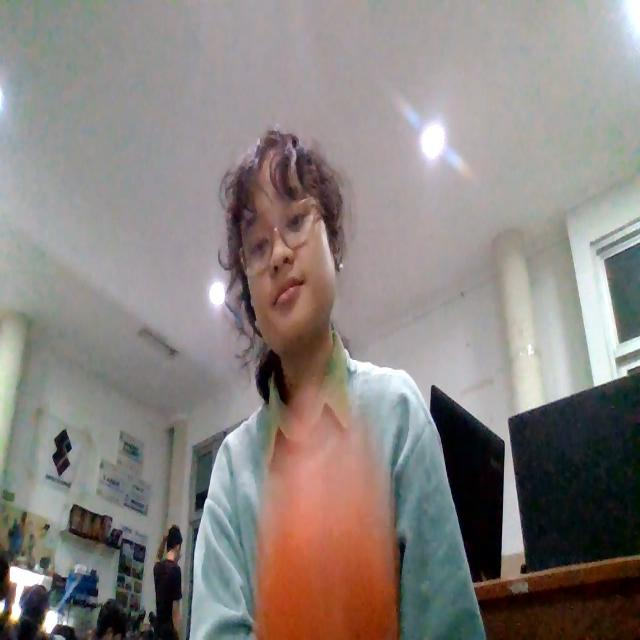ball: (267, 448, 393, 640)
